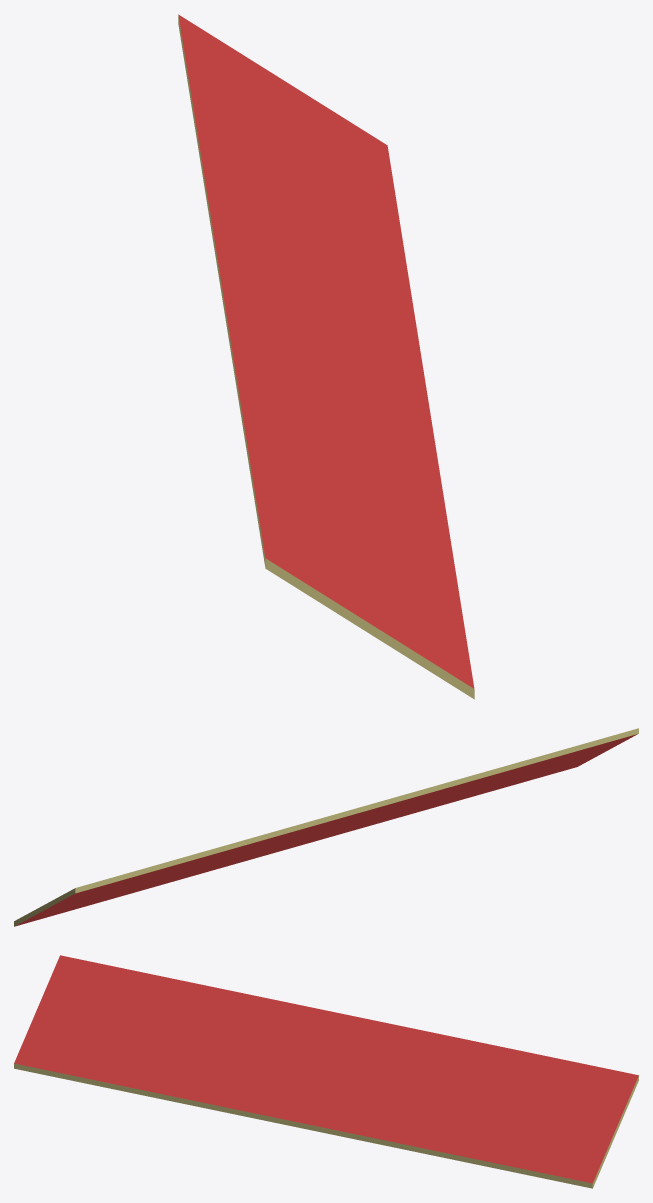
The picture shows the model from 3 angles, top to bottom: view 1: azimuth 30°, elevation 25°; view 2: azimuth 150°, elevation 25°; view 3: azimuth 270°, elevation 25°; orthographic projection. The views are drawn at different scales.
Bounding box in the file's own units: 6.58 × 10.87 × 1.41.
